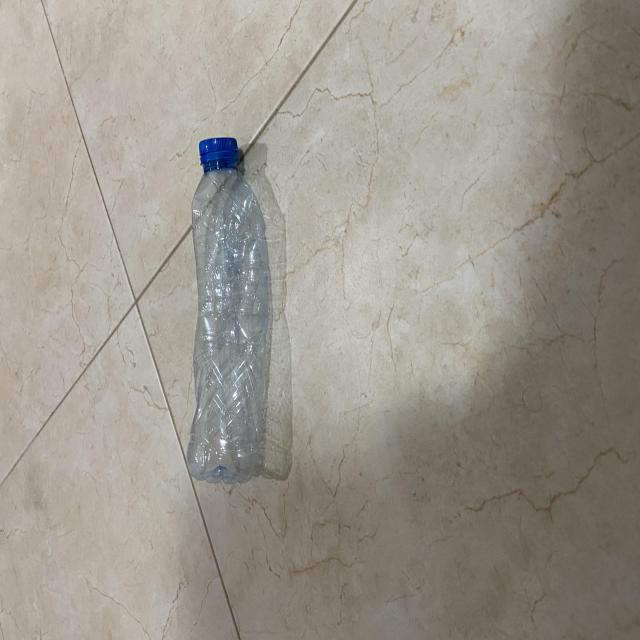bottle: (174, 123, 280, 494)
